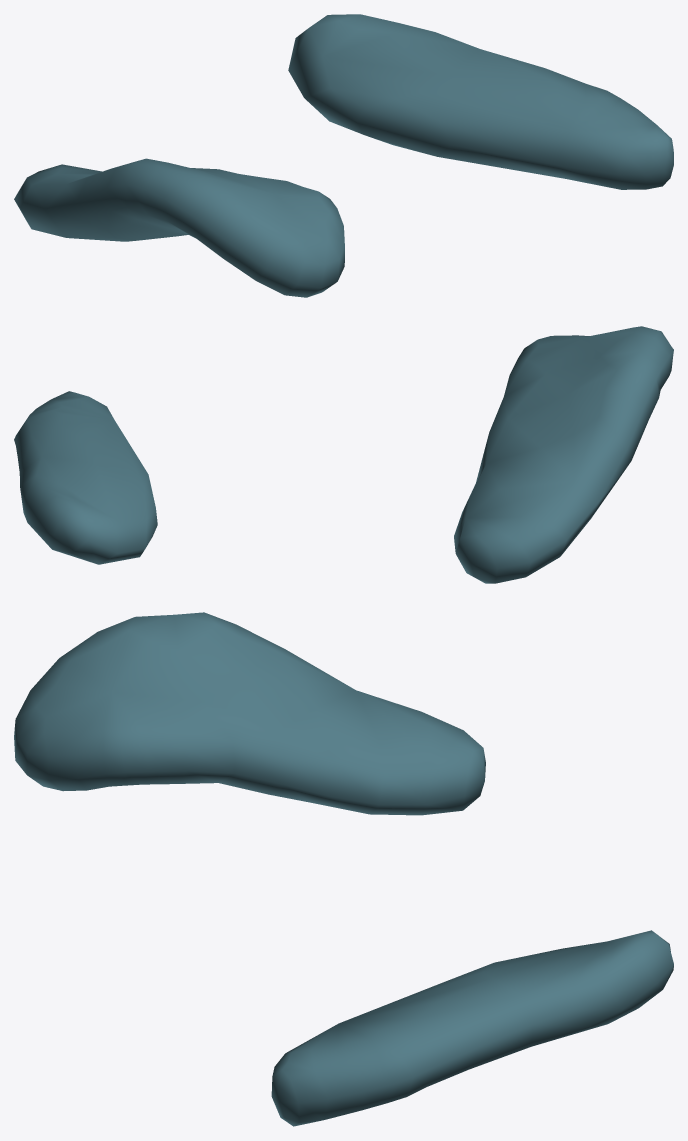
Rendered from Flexor_digitorum_brevis_5th_medial_phalanx_left.glb.
The picture shows the model from 3 angles, top to bottom: view 1: azimuth 30°, elevation 25°; view 2: azimuth 150°, elevation 25°; view 3: azimuth 270°, elevation 25°; orthographic projection. The views are drawn at different scales.
Parts seen in each view (by area): view 1: Flexor_digitorum_brevis_on_5th_medial_phalanx.l_Generated_Me; view 2: Flexor_digitorum_brevis_on_5th_medial_phalanx.l_Generated_Me; view 3: Flexor_digitorum_brevis_on_5th_medial_phalanx.l_Generated_Me.
Part boxes in pixels (x1,y1,x2,y2): Flexor_digitorum_brevis_on_5th_medial_phalanx.l_Generated_Me: (14, 14, 673, 297); Flexor_digitorum_brevis_on_5th_medial_phalanx.l_Generated_Me: (14, 326, 673, 583); Flexor_digitorum_brevis_on_5th_medial_phalanx.l_Generated_Me: (14, 612, 673, 1126).
Size of the model in its own units: 0.0053 by 0.00163 by 0.00455.
